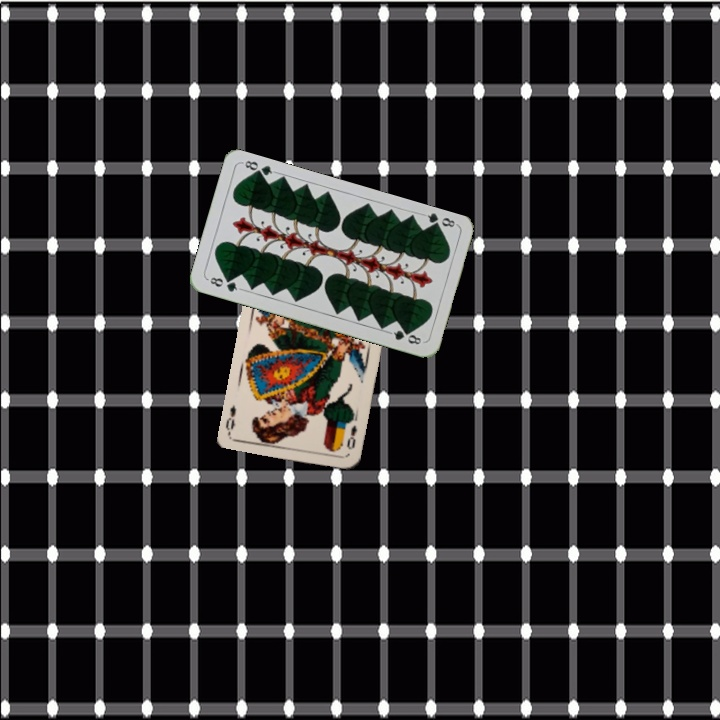EO: (343, 421, 360, 452)
G8: (419, 209, 459, 232), (206, 273, 244, 295)
